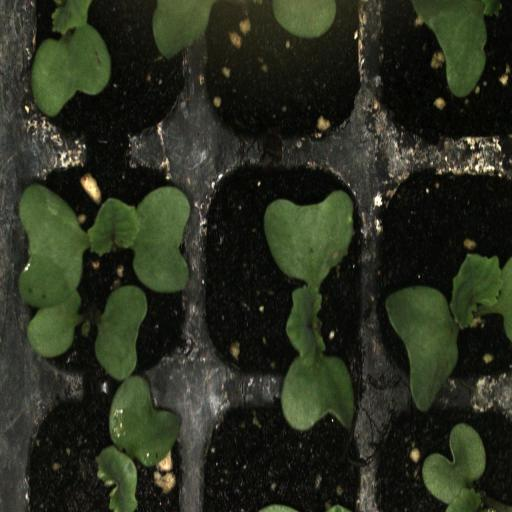seedling: (196, 154, 373, 398), (374, 155, 512, 396)
twoseedling: (12, 148, 196, 388)
